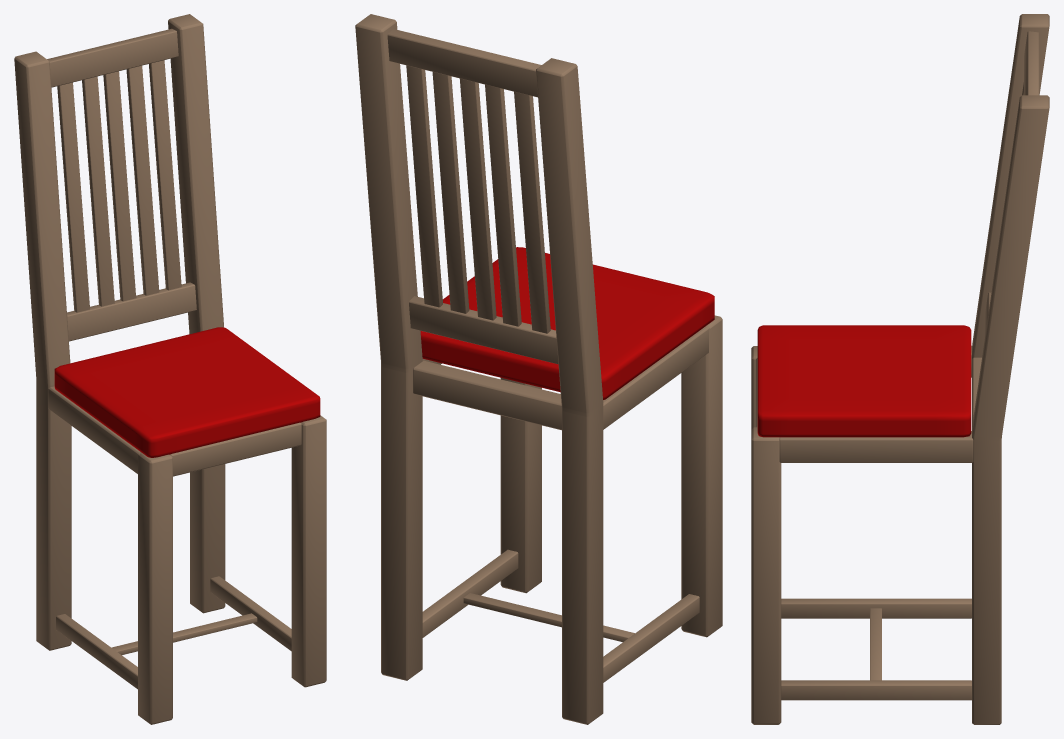
File: Chair 1.fbx
3 renders of one model, left to right at view 1: azimuth 30°, elevation 25°; view 2: azimuth 150°, elevation 25°; view 3: azimuth 270°, elevation 25°, orthographic. The views are drawn at different scales.
Parts seen in each view (by area): view 1: pCube20, pCube3, pCube4, pCube1, pCube2, pCube10, pCube16, pCube15, pCube12, pCube13, pCube14, pCube11 (+5 smaller); view 2: pCube3, pCube4, pCube20, pCube1, pCube2, pCube6, pCube10, pCube12, pCube14, pCube15, pCube16, pCube13 (+5 smaller); view 3: pCube20, pCube4, pCube2, pCube8, pCube3, pCube18, pCube17, pCube10, pCube19.
Boxes of the visible parts, bbox=[...] form: pCube20: bbox=[54, 327, 320, 457]; pCube3: bbox=[14, 51, 71, 650]; pCube4: bbox=[168, 14, 225, 613]; pCube1: bbox=[138, 452, 172, 724]; pCube2: bbox=[291, 415, 326, 687]; pCube10: bbox=[47, 28, 178, 87]; pCube16: bbox=[149, 60, 181, 290]; pCube15: bbox=[126, 65, 159, 295]; pCube12: bbox=[103, 71, 136, 301]; pCube13: bbox=[82, 76, 114, 306]; pCube14: bbox=[57, 82, 89, 312]; pCube11: bbox=[67, 282, 196, 341]; pCube3: bbox=[536, 58, 603, 724]; pCube4: bbox=[355, 14, 422, 680]; pCube20: bbox=[420, 247, 714, 399]; pCube1: bbox=[681, 315, 722, 637]; pCube2: bbox=[500, 378, 541, 593]; pCube6: bbox=[413, 360, 561, 430]; pCube10: bbox=[387, 29, 541, 97]; pCube12: bbox=[459, 78, 496, 320]; pCube14: bbox=[514, 91, 550, 333]; pCube15: bbox=[432, 72, 469, 313]; pCube16: bbox=[406, 65, 442, 307]; pCube13: bbox=[485, 84, 521, 326]; pCube20: bbox=[757, 325, 971, 437]; pCube4: bbox=[972, 95, 1049, 724]; pCube2: bbox=[751, 427, 781, 724]; pCube8: bbox=[779, 431, 973, 462]; pCube3: bbox=[972, 14, 1049, 358]; pCube18: bbox=[781, 680, 971, 700]; pCube17: bbox=[781, 598, 971, 618]; pCube10: bbox=[1024, 31, 1039, 95]; pCube19: bbox=[870, 608, 881, 680].
Size of the model in its own units: 11.23 by 34.49 by 15.05.
